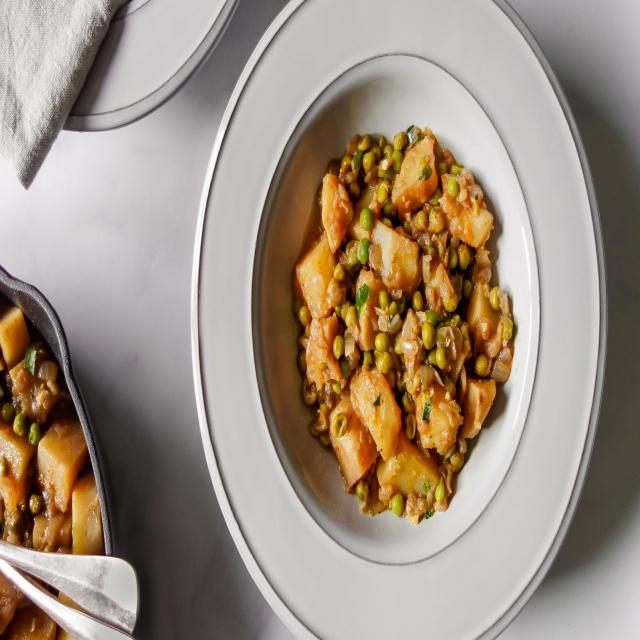Aloo Matar: (301, 153, 509, 508), (0, 296, 104, 633)
